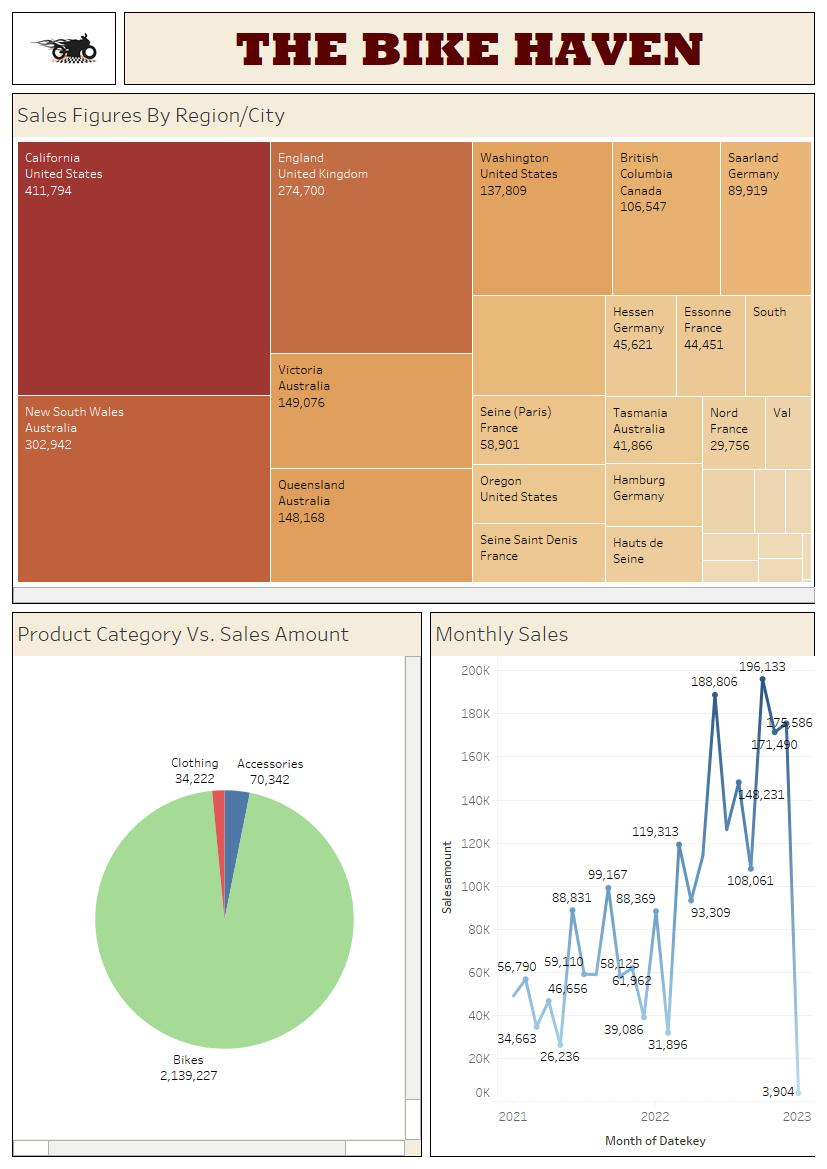

Layout of this report page (visuals, bound fields, positions):
{"tool":"tableau","page":{"name":"Dashboard 3","canvas":[827,1169],"ordinal":2},"visuals":[{"type":"image","param":"C:/Users/pc/Downloads/images.png","box":[8,8,112,81]},{"type":"text","box":[119.9,8,699.1,81]},{"type":"worksheet","title":"Sales Figures By Region/City","mark":"Automatic","box":[8,89,811,519]},{"type":"worksheet","title":"Product Category Vs. Sales Amount","mark":"Pie","box":[8,608,418,553]},{"type":"worksheet","title":"Monthly Sales","mark":"Automatic","rows":["salesamount"],"cols":["datekey"],"box":[426,608,393,553]}]}

Visuals, with their boxes in screenshot pixels (x1, y1, x2, y2), scaled from the page's 827x1169 canvas onto the 827x1169 screenshot:
image: <box>8,8,120,89</box>
text: <box>120,8,819,89</box>
"Sales Figures By Region/City" worksheet: <box>8,89,819,608</box>
"Product Category Vs. Sales Amount" worksheet (Pie marks): <box>8,608,426,1161</box>
"Monthly Sales" worksheet: <box>426,608,819,1161</box>
